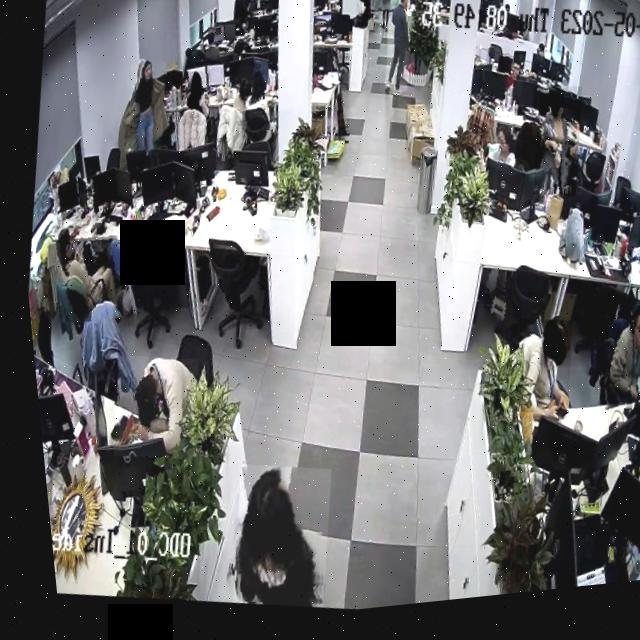person: (210, 461, 332, 620), (96, 350, 198, 469), (38, 216, 129, 332), (498, 325, 573, 430), (577, 306, 640, 430), (521, 93, 587, 211), (116, 60, 171, 161), (375, 0, 421, 102), (233, 69, 277, 140), (174, 73, 212, 132), (481, 134, 516, 180), (497, 63, 525, 109), (349, 0, 381, 40)
